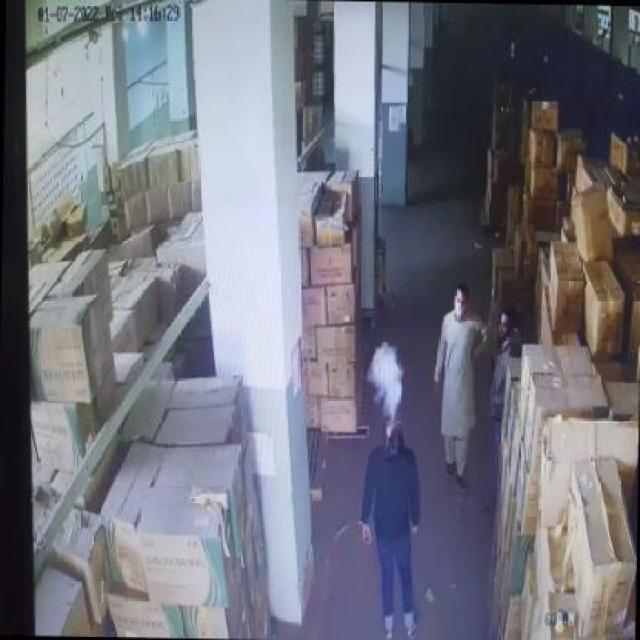fire: (363, 333, 408, 416)
